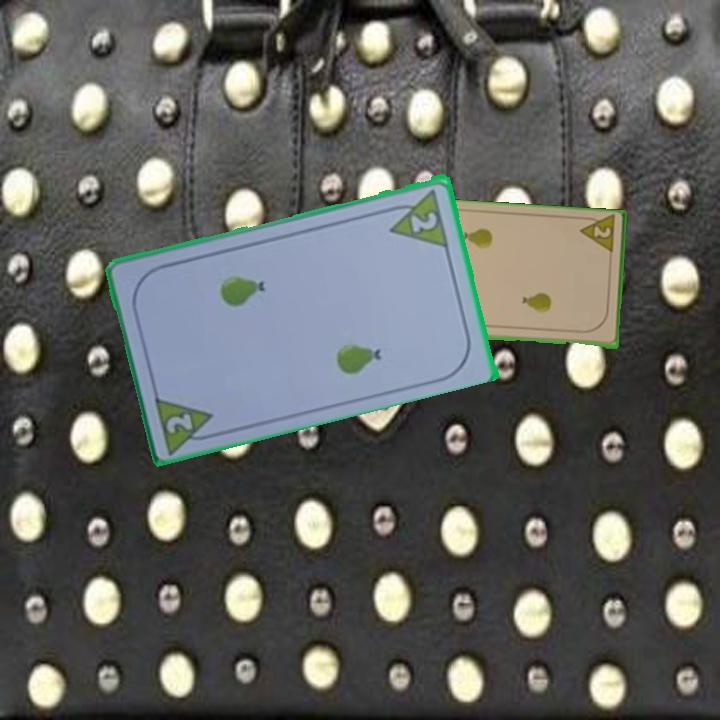2p: (576, 213, 617, 258), (407, 207, 441, 235), (162, 409, 197, 436)
